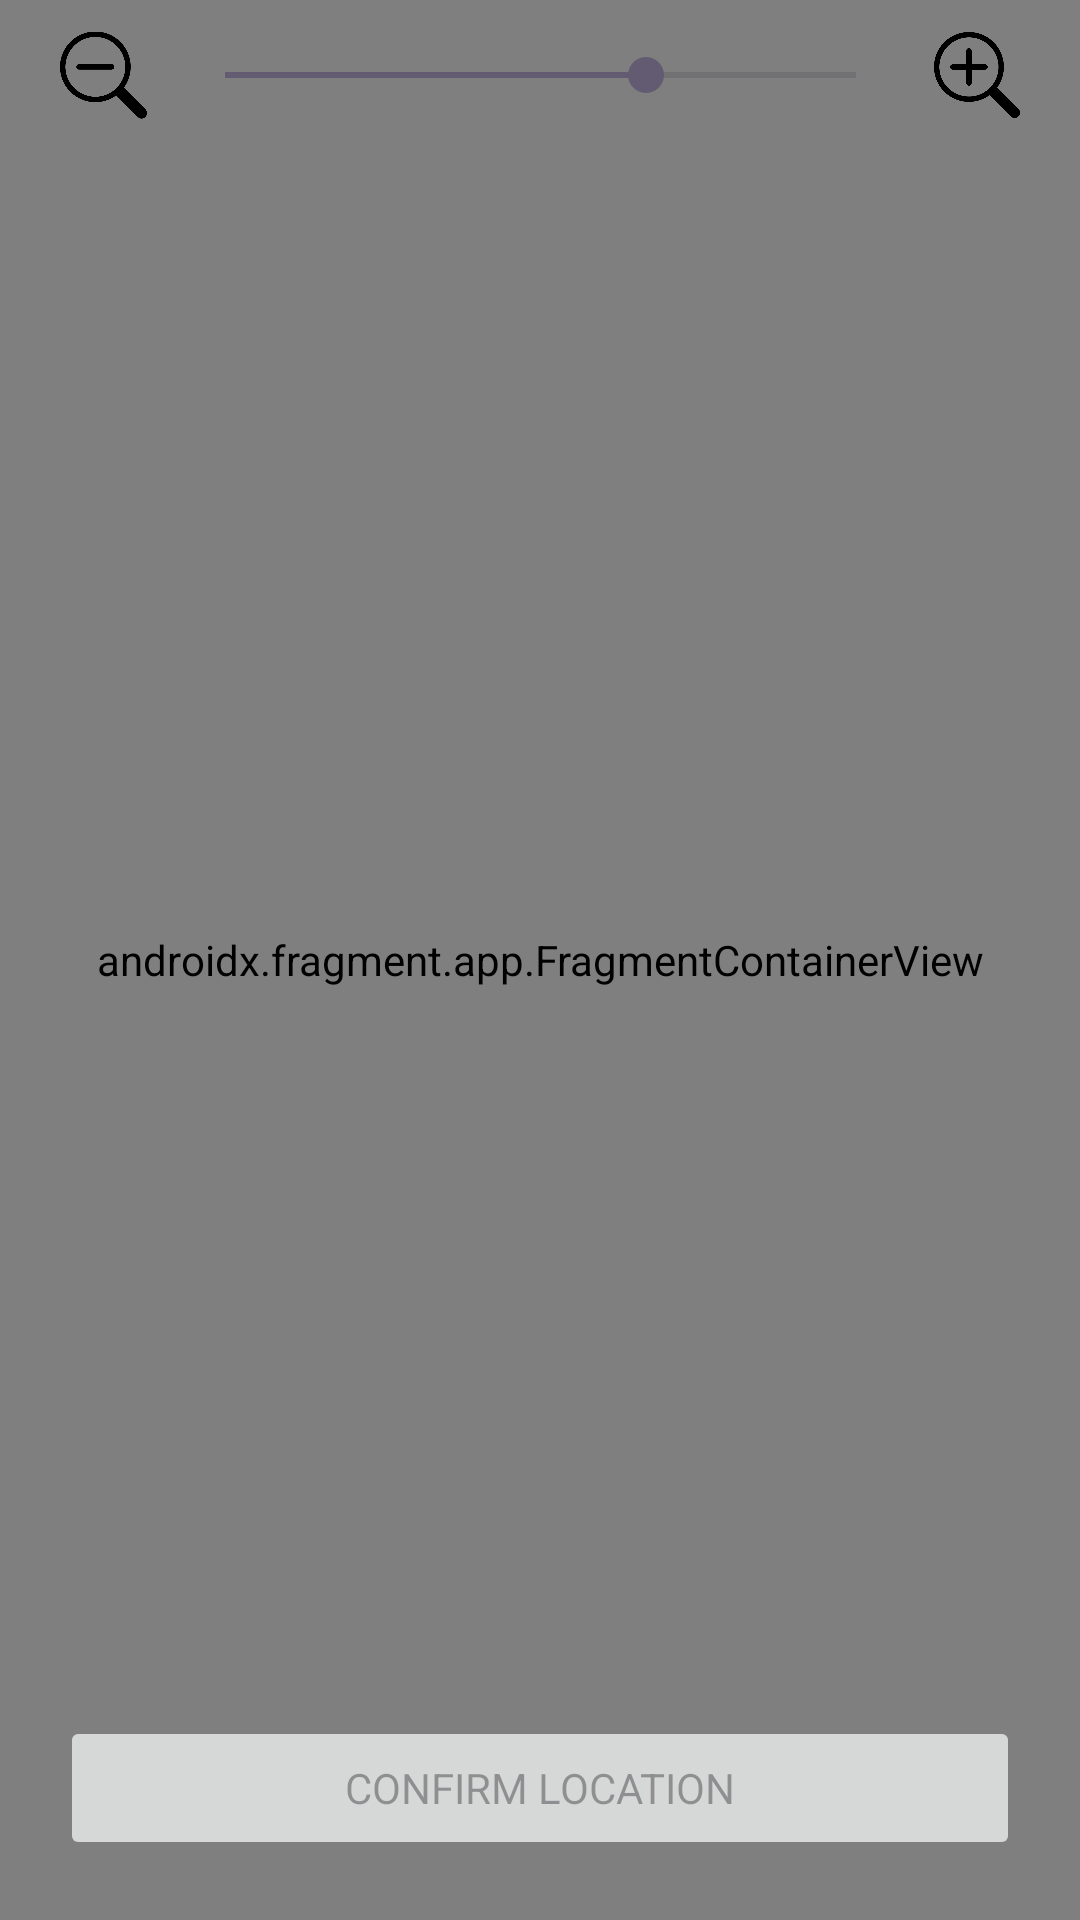

Icon click points for this 1080px x 1920px phone screenshot, format point (x, y):
minuszoom: point (103, 75)
pluszoom: point (977, 75)
